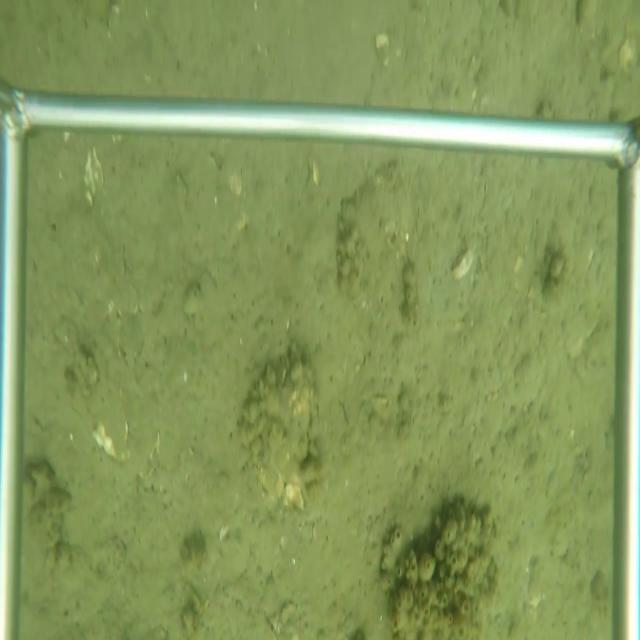Oyster-Indeterminate: (336, 162, 416, 326), (242, 355, 312, 515)
